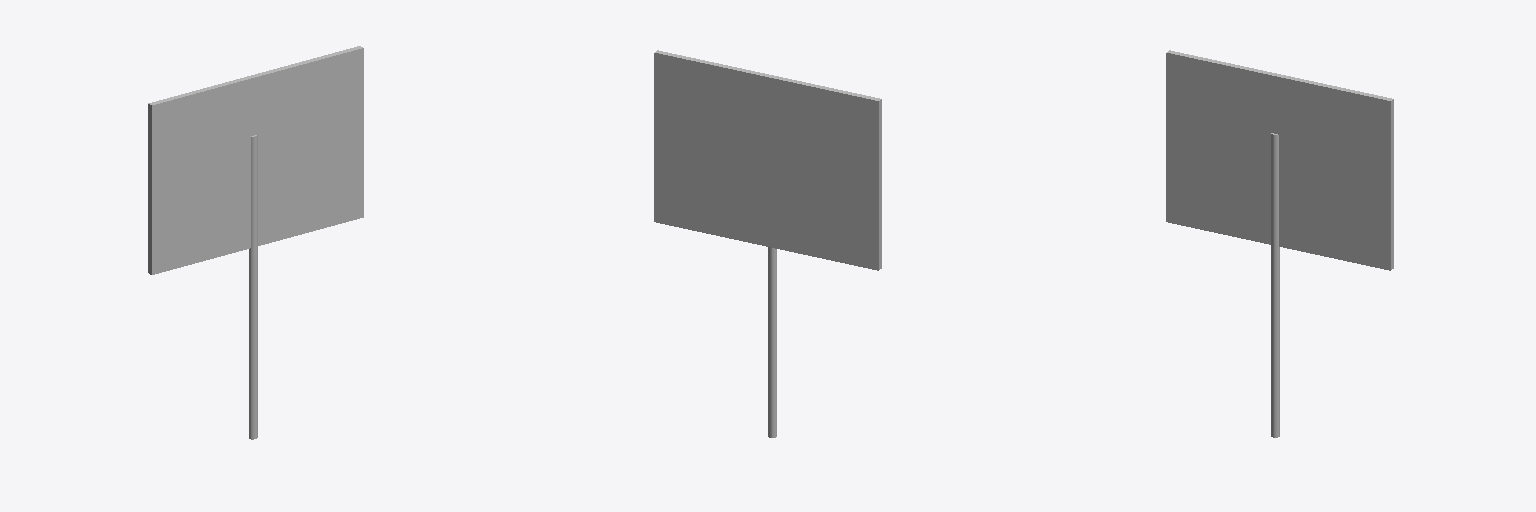
File: board_12.obj
3 views of the same model, side by side, from view 1: azimuth 30°, elevation 25°; view 2: azimuth 150°, elevation 25°; view 3: azimuth 330°, elevation 25° (orthographic).
Visible parts, largest first — view 1: Cube.003_Cube.004, Cylinder.003; view 2: Cube.003_Cube.004, Cylinder.003; view 3: Cube.003_Cube.004, Cylinder.003.
Part boxes in pixels (x1,y1,x2,y2): Cube.003_Cube.004: (148, 46, 363, 274); Cylinder.003: (249, 135, 257, 439); Cube.003_Cube.004: (654, 50, 881, 270); Cylinder.003: (768, 247, 776, 437); Cube.003_Cube.004: (1166, 50, 1393, 270); Cylinder.003: (1271, 133, 1279, 437).
Bounding box in the file's own units: 0.4456 × 0.7033 × 0.033.